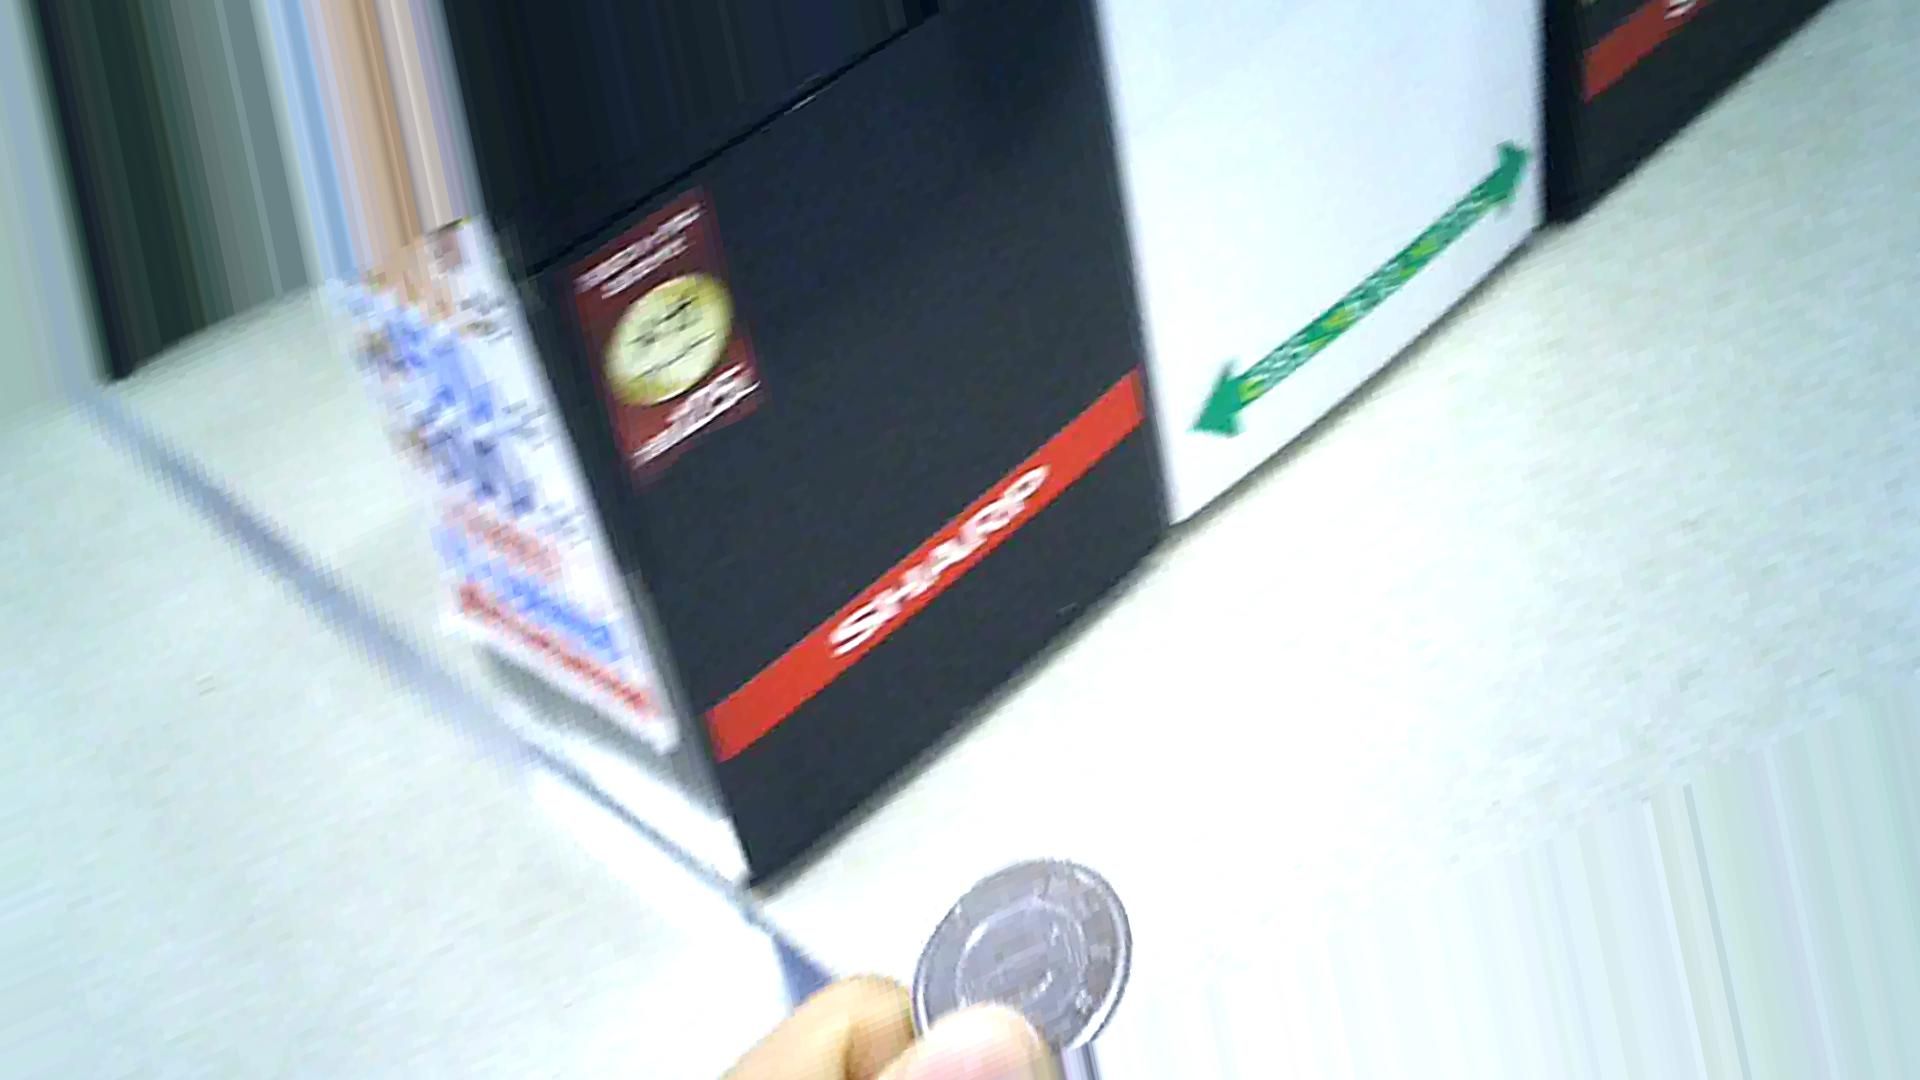1 Yen: (891, 852, 1147, 1056)
